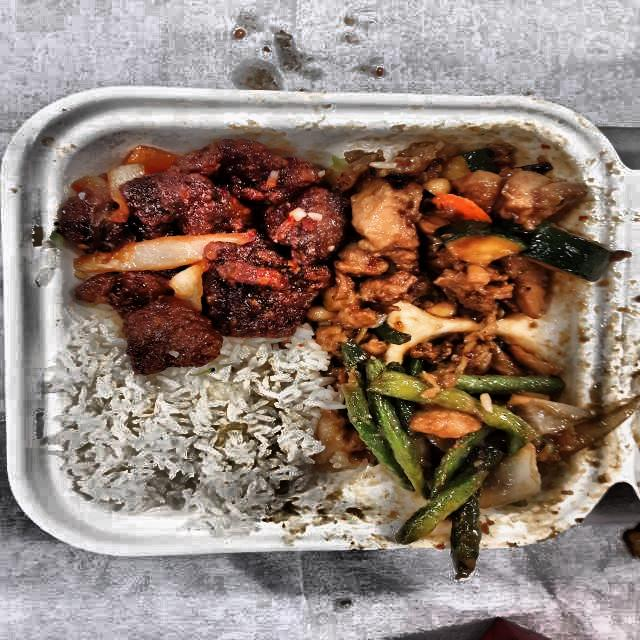Food: (59, 128, 339, 364), (330, 343, 590, 574), (329, 127, 612, 337), (66, 361, 327, 524)
